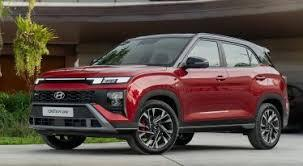hyundai: (50, 90, 67, 100)
